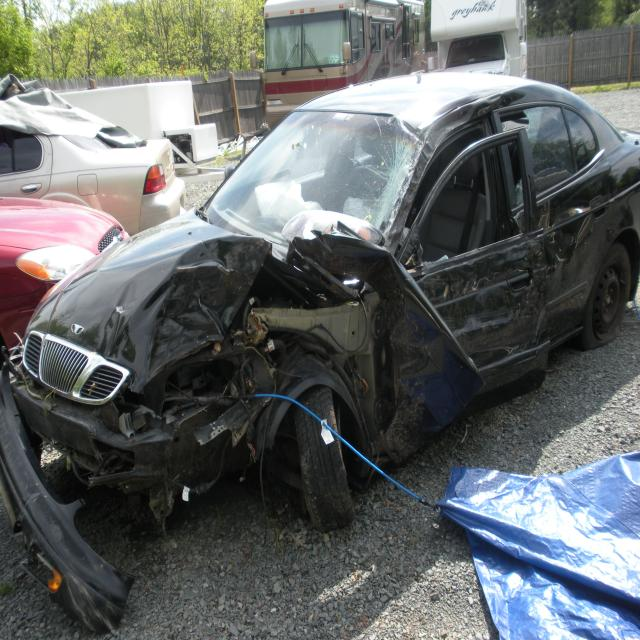crush: (0, 87, 575, 636)
